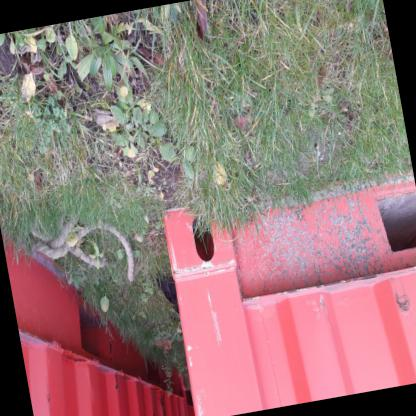CornerCasting: (158, 194, 242, 284)
